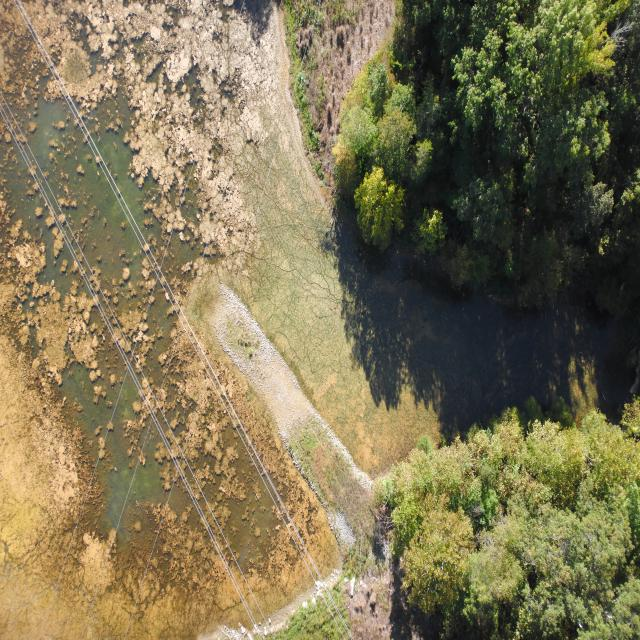Area of Interest: (342, 0, 635, 300), (402, 415, 633, 619)
